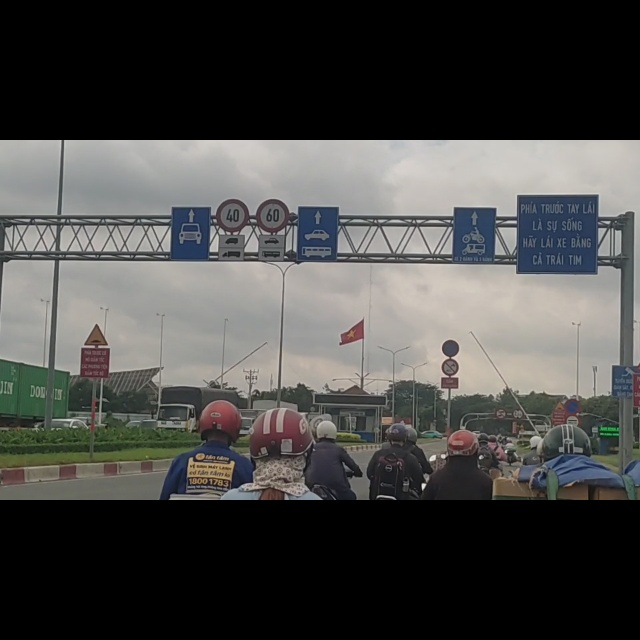bien_cam: (216, 104, 249, 164), (257, 104, 289, 165), (611, 399, 636, 457), (85, 326, 109, 366), (441, 354, 459, 385), (442, 389, 459, 420), (565, 460, 581, 487), (566, 489, 581, 510), (513, 476, 524, 498), (495, 476, 507, 495), (554, 463, 564, 481)
